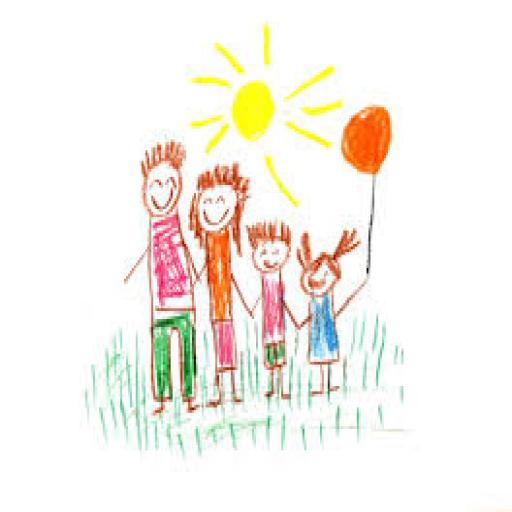person: (117, 121, 197, 434), (188, 139, 254, 417), (298, 216, 365, 403), (246, 206, 298, 412)
